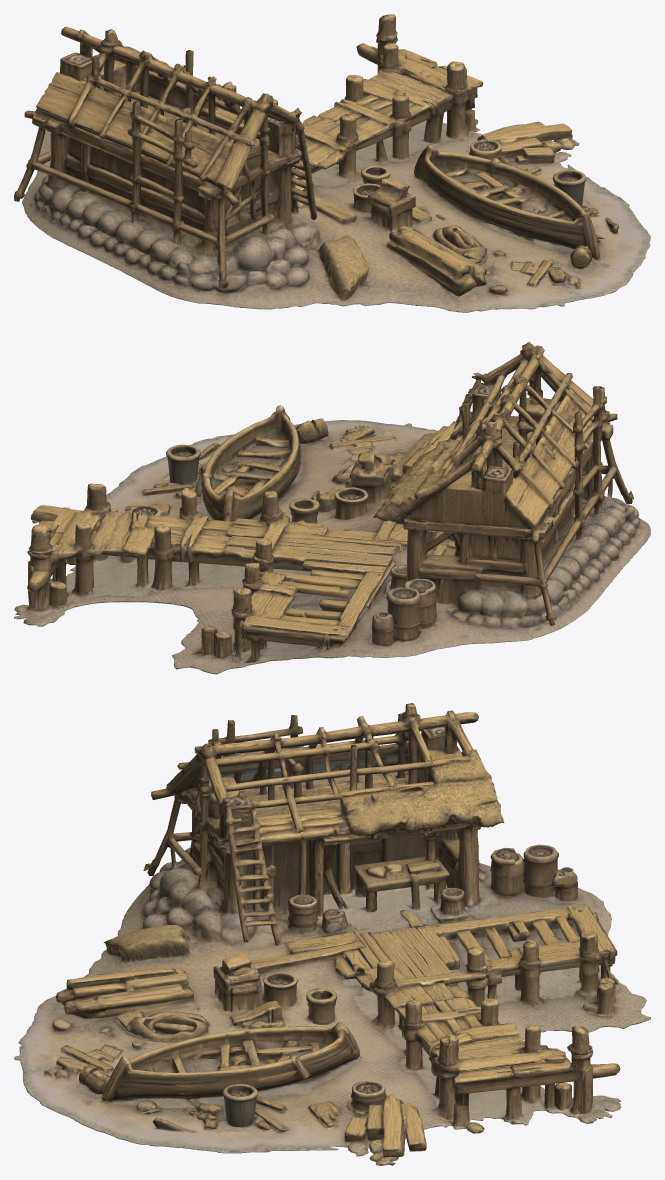
The model's file is tripo_convert_3717a30a-9639-48c9-8e72-4c7dc0328713.fbx.
The picture shows the model from 3 angles, top to bottom: view 1: azimuth 30°, elevation 25°; view 2: azimuth 150°, elevation 25°; view 3: azimuth 270°, elevation 25°; orthographic projection. The views are drawn at different scales.
Visible parts, largest first — view 1: tripo_node_3717a30a; view 2: tripo_node_3717a30a; view 3: tripo_node_3717a30a.
Part boxes in pixels (x1,y1,x2,y2): tripo_node_3717a30a: [14, 14, 650, 312]; tripo_node_3717a30a: [14, 341, 650, 674]; tripo_node_3717a30a: [14, 703, 650, 1165].
Bounding box in the file's own units: 0.9813 × 0.3757 × 0.9572.
Materials: 1 (1 with a texture image).
